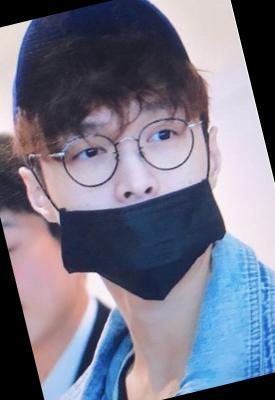mask_weared_incorrect: (29, 91, 240, 322)
